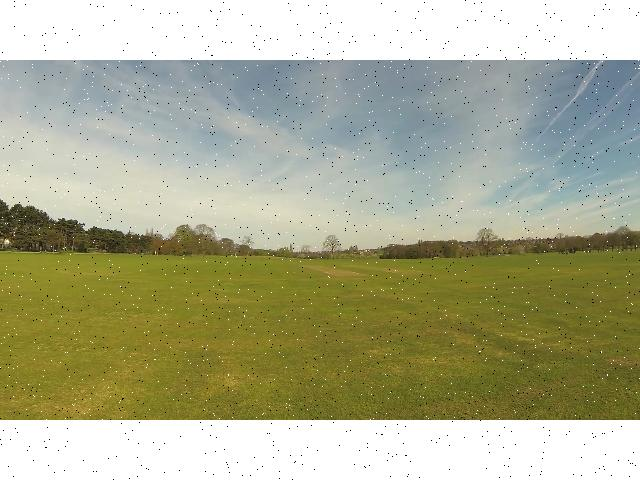Anti-Drone: (390, 158, 406, 169)
